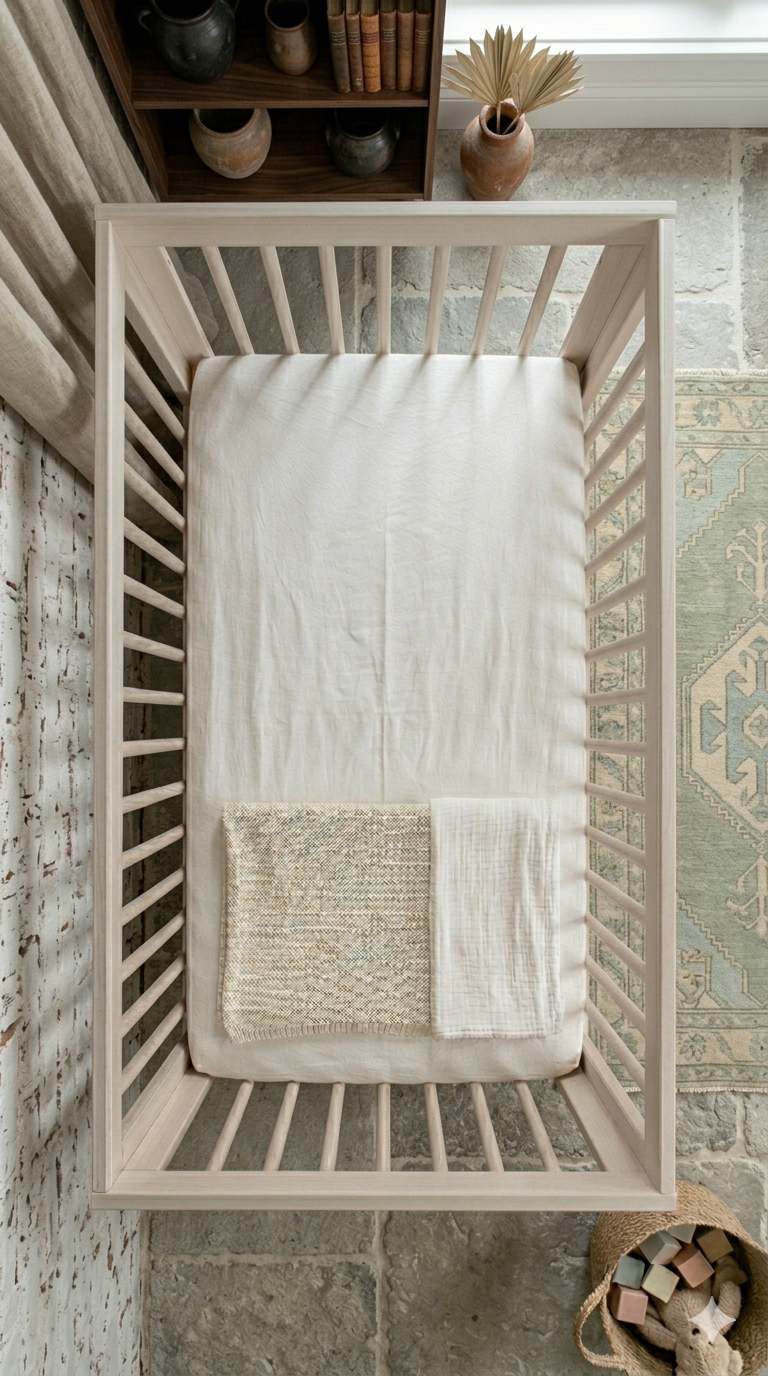crib: (172, 245, 600, 1171)
